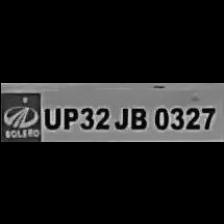0: (151, 104, 169, 130)
2: (92, 103, 110, 131), (184, 104, 200, 130)
3: (168, 104, 184, 130), (78, 103, 92, 131)
7: (199, 104, 215, 130)
B: (127, 104, 148, 130)
J: (111, 104, 127, 130)
P: (60, 104, 76, 130)
U: (41, 103, 59, 129)
